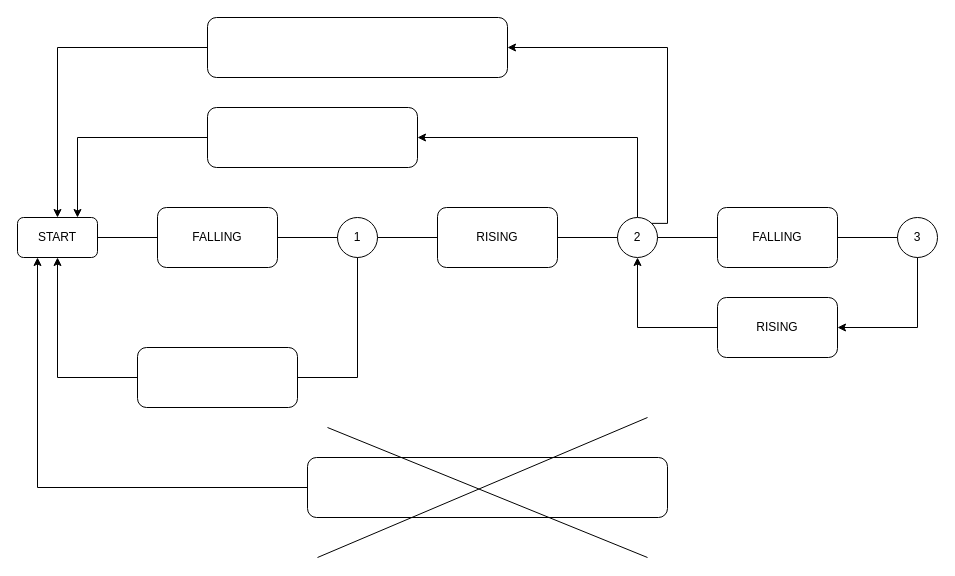
This 955x576 diagram has some shape labels left out. The centre of each missing label's shape, as x and y in pixels:
IF SPECIFIED, MULTI-CLICK COUNT REACHED; SEND # OF CLICKS: (x=357, y=47)
LONG PRESS TIME EXCEEDED; SEND LONG_PRESS: (x=217, y=377)
MULTI-CLICK TIME EXCEEDED; SEND # OF CLICKS: (x=312, y=137)
UNCREACHABLE ERROR TIMEOUT REACHED; LAST STATEMENT IN FUNCTION; RETURN NONE: (x=487, y=487)
